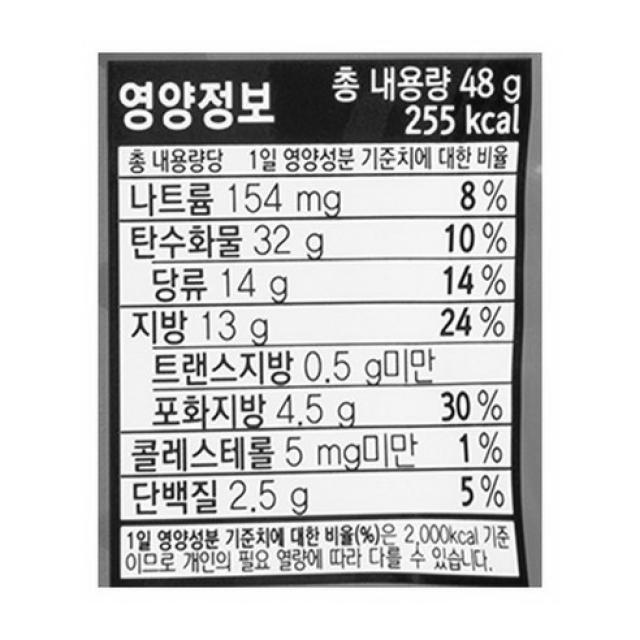Nutrition Label: (98, 49, 538, 593)
